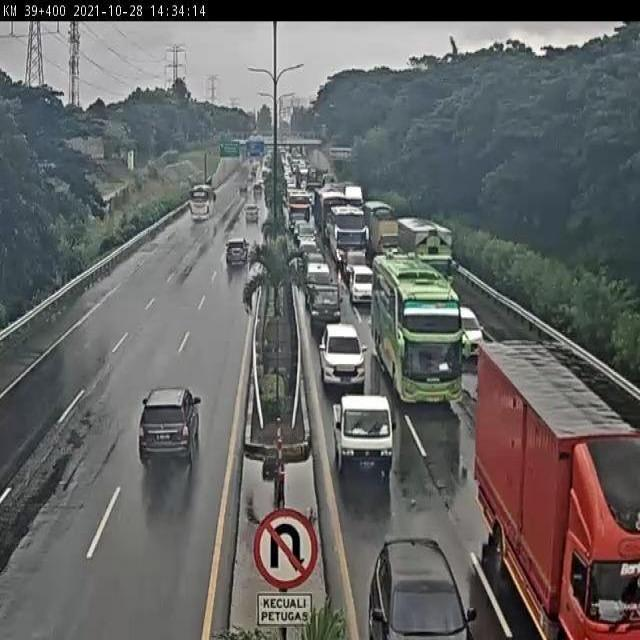bus-l-: (374, 260, 454, 397), (330, 205, 370, 263)
car: (332, 390, 398, 470), (136, 385, 200, 464), (317, 324, 366, 387), (449, 304, 484, 359), (309, 280, 342, 333), (302, 260, 335, 296), (350, 265, 373, 303), (341, 250, 367, 278), (297, 238, 318, 266), (296, 224, 318, 248), (302, 250, 323, 270)
truck-l-: (478, 345, 640, 640)
